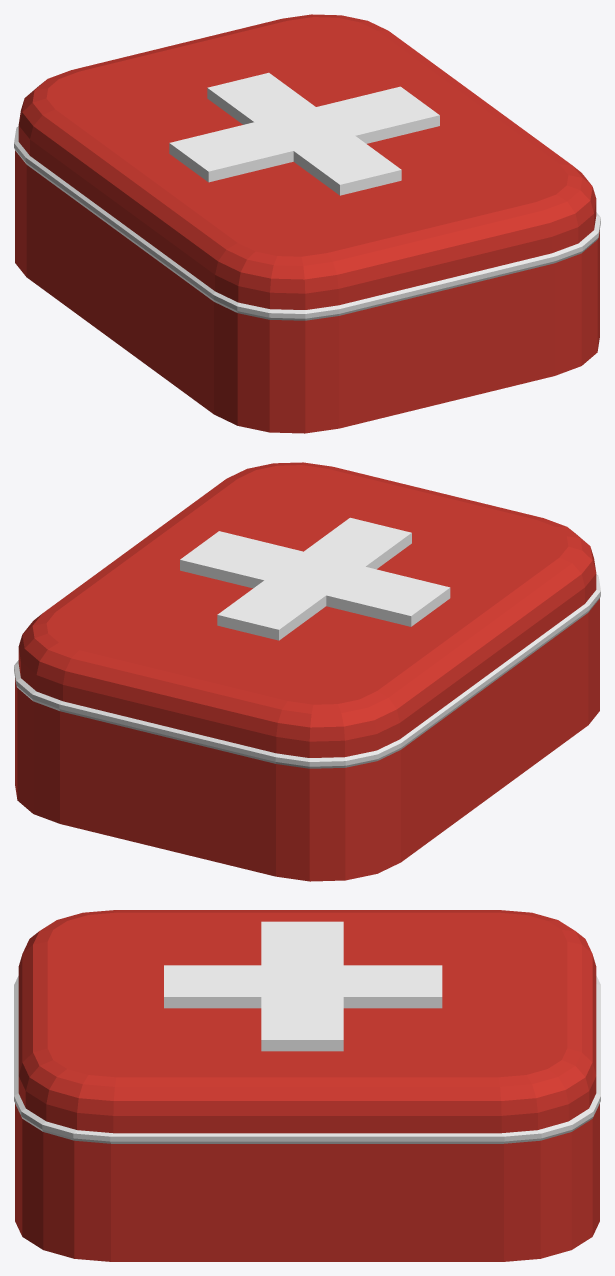
3 renders of one model, top to bottom at view 1: azimuth 30°, elevation 25°; view 2: azimuth 150°, elevation 25°; view 3: azimuth 270°, elevation 25°, orthographic. The views are drawn at different scales.
Visible parts, largest first — view 1: Plane, Plane.001; view 2: Plane, Plane.001; view 3: Plane, Plane.001.
Part boxes in pixels (x1,y1,x2,y2): Plane: (14, 14, 600, 433); Plane.001: (169, 72, 439, 195); Plane: (14, 462, 600, 881); Plane.001: (180, 517, 450, 640); Plane: (14, 910, 600, 1261); Plane.001: (164, 921, 442, 1051).
Size of the model in its own units: 156 by 68.89 by 201.
